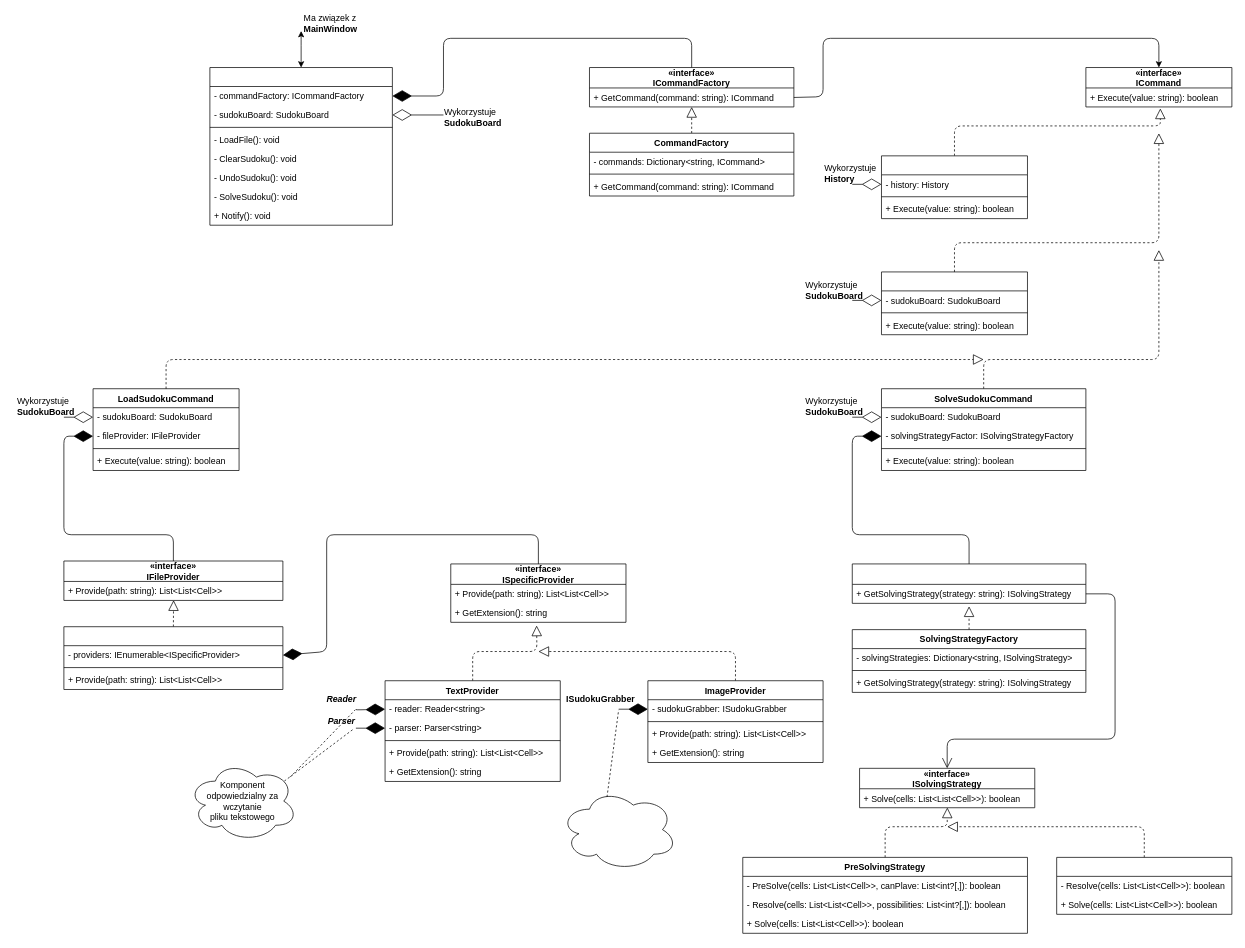
Image size: 1245x948. Some labels were removed from this diagram. The box of each missing label's shape, as (x1, y1, x2, y2) in pixels:
BacktrackingStrategy: (1056, 857, 1232, 914)
ClearSudokuCommand: (881, 271, 1027, 335)
FileProvider: (63, 626, 283, 689)
Komponent odpowiedzialny za wczytanie pliku graficznego: (560, 788, 677, 871)
MainViewModel: (209, 67, 392, 225)
UndoCommand: (881, 155, 1027, 219)
«interface» ISolvingStrategyFactory: (852, 563, 1086, 603)
